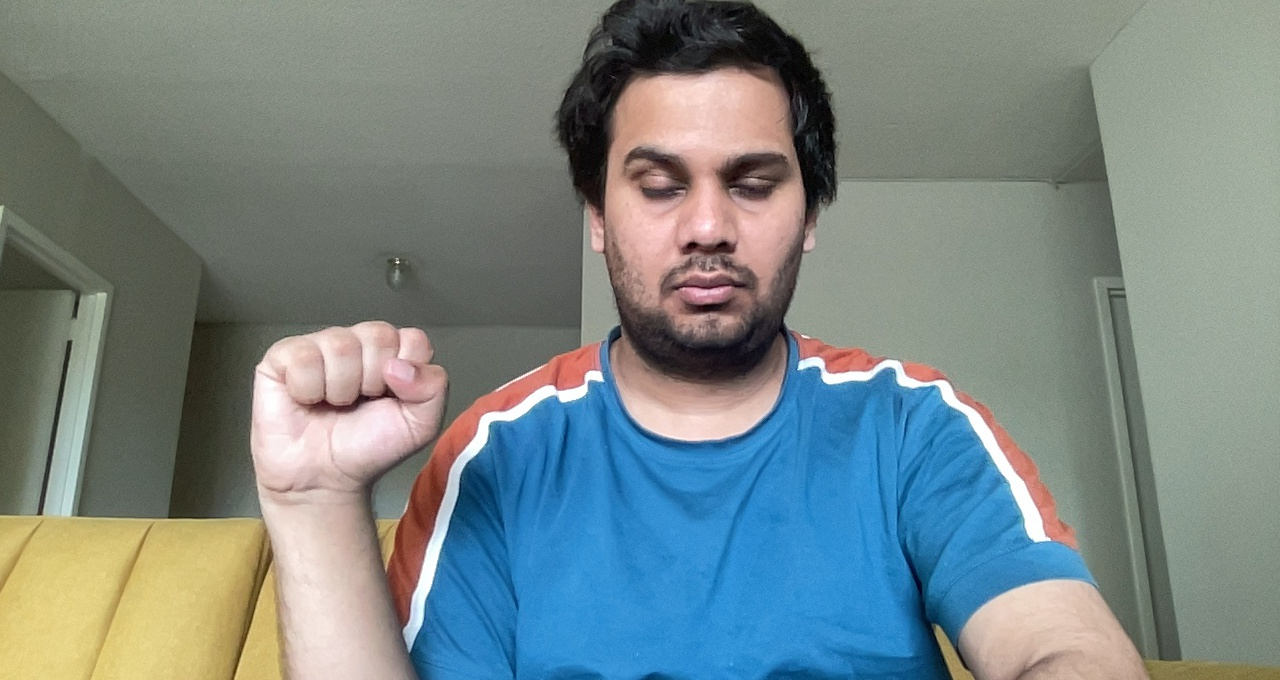closedfist: (242, 319, 450, 497)
